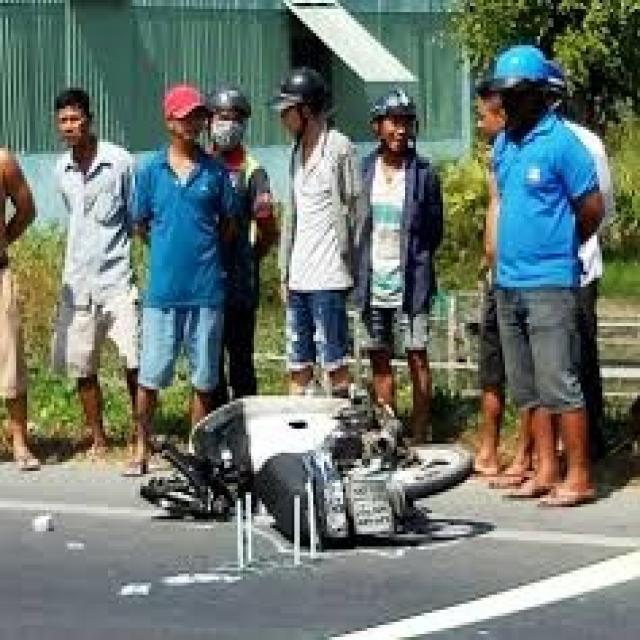accident: (132, 365, 476, 570)
